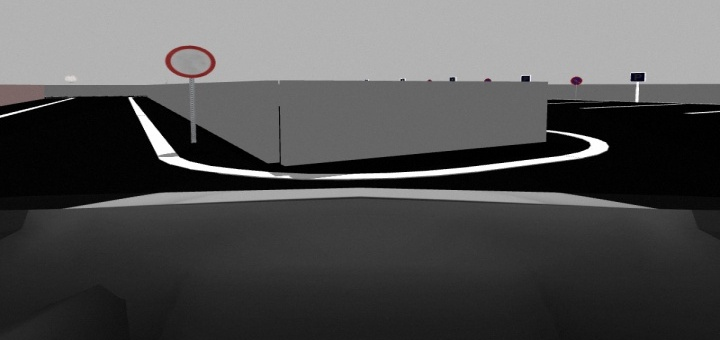girilmez: (163, 44, 219, 79)
